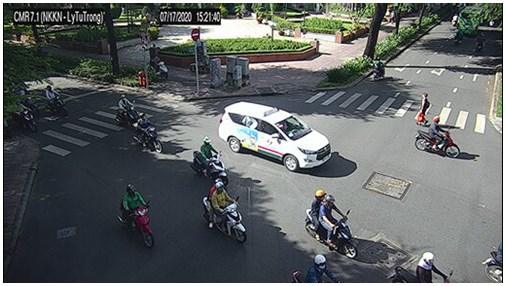di_bo: (416, 93, 431, 126)
xe_may: (305, 190, 359, 260), (202, 179, 247, 244), (119, 185, 156, 247), (387, 251, 452, 282), (416, 117, 461, 160), (191, 137, 229, 185), (291, 256, 342, 283), (133, 112, 163, 153), (482, 238, 502, 282), (14, 100, 37, 132), (45, 85, 69, 115), (117, 94, 138, 126), (148, 55, 168, 77), (24, 95, 40, 114), (373, 57, 386, 78), (475, 34, 485, 53), (452, 28, 459, 47)
xe_taxi: (219, 101, 332, 171)
